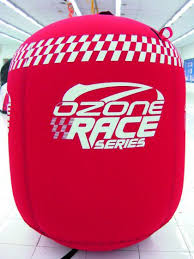buoy: (7, 14, 186, 252)
